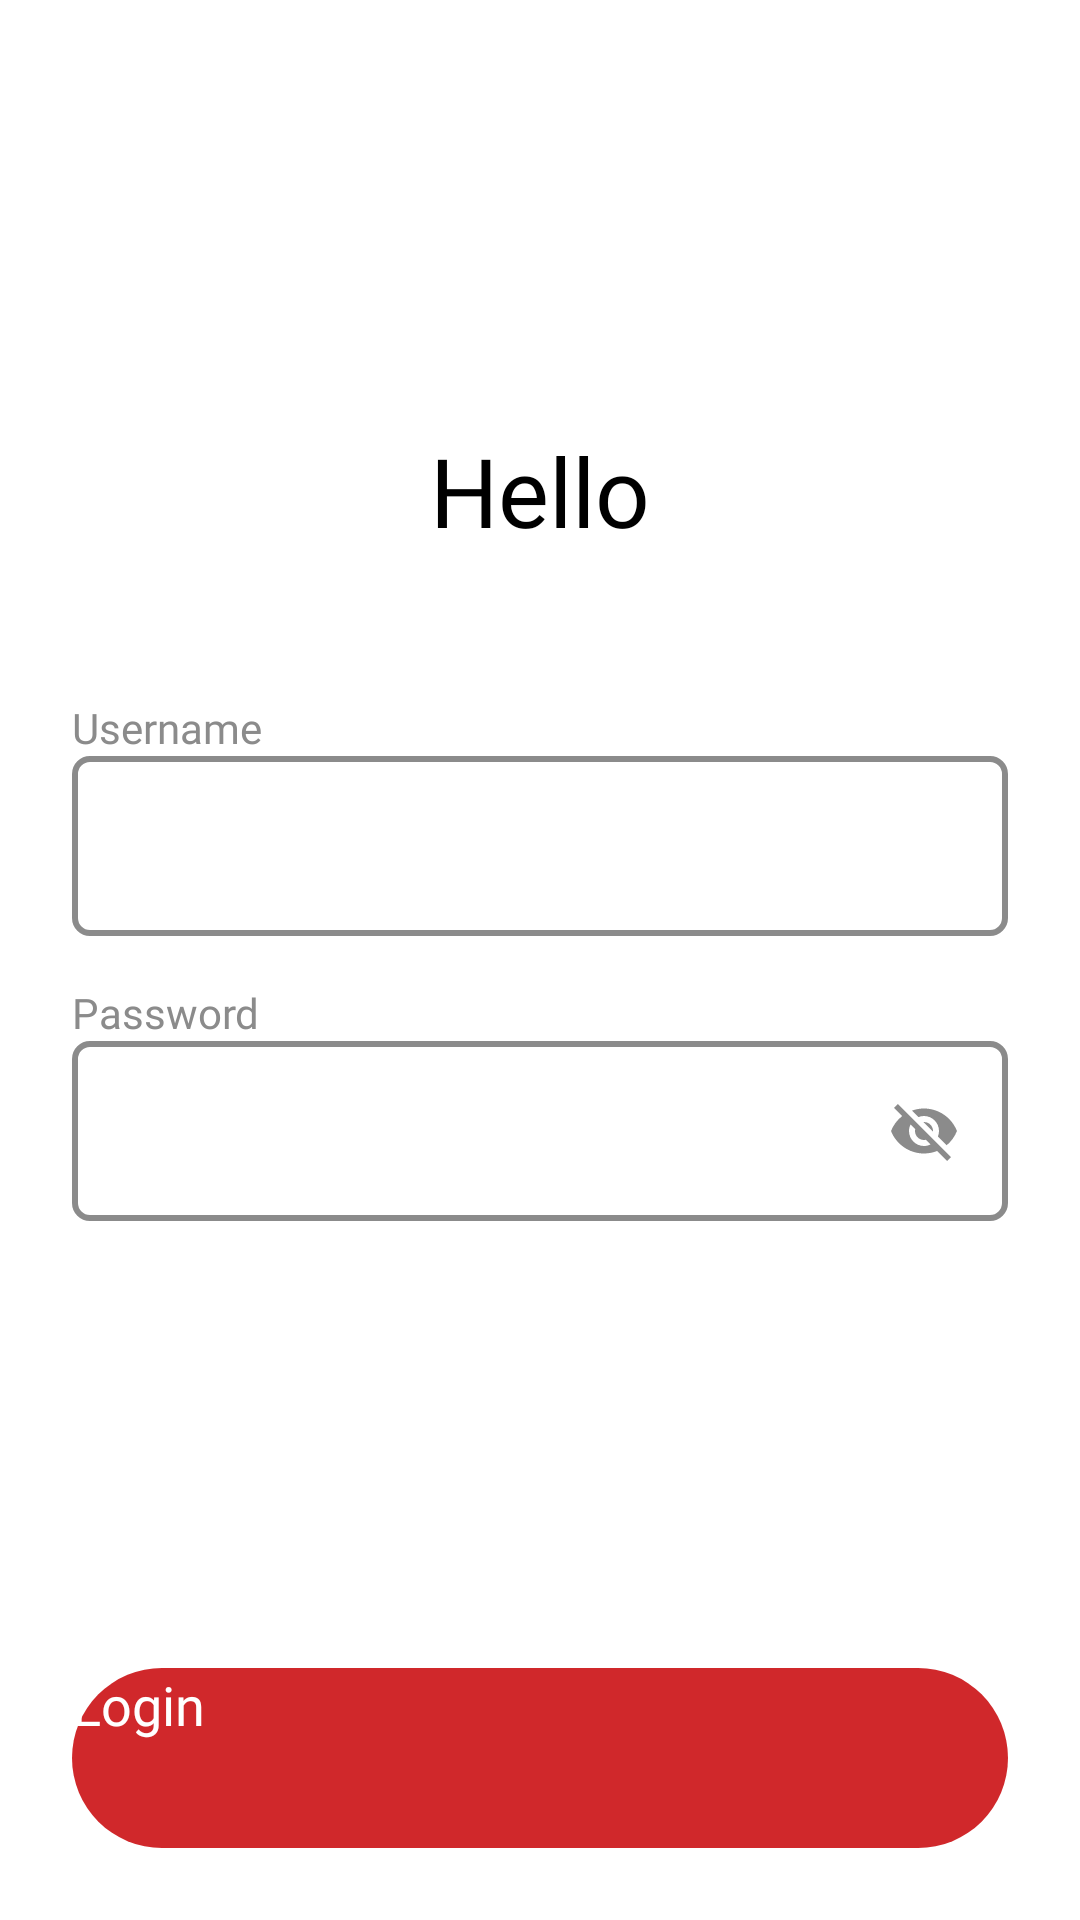

Icon bounding boxes for this 1080*1920 phone screenshot, format rect(x1, y1, x2, y2):
visibility off: rect(891, 1104, 957, 1161)
